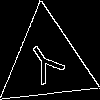Y: (22, 38, 72, 95)
